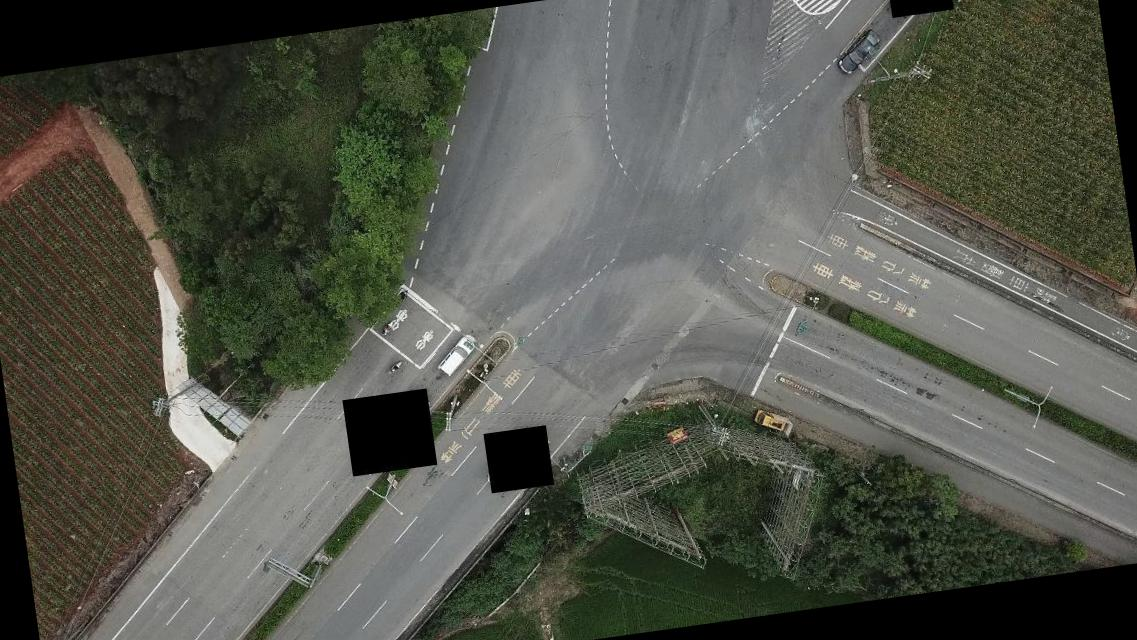vehicle: (836, 31, 883, 77), (436, 333, 482, 378), (753, 408, 793, 437)
